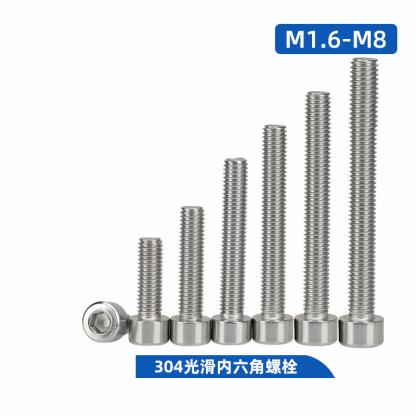FOD: (335, 56, 386, 351), (293, 90, 340, 348), (249, 123, 293, 347), (208, 158, 254, 344), (166, 204, 214, 347), (127, 233, 169, 348), (79, 300, 130, 344)
